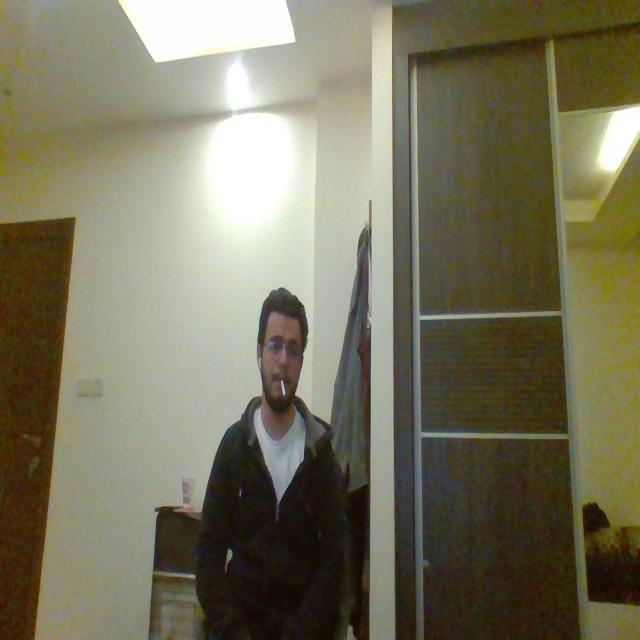smoking: (270, 375, 296, 399)
